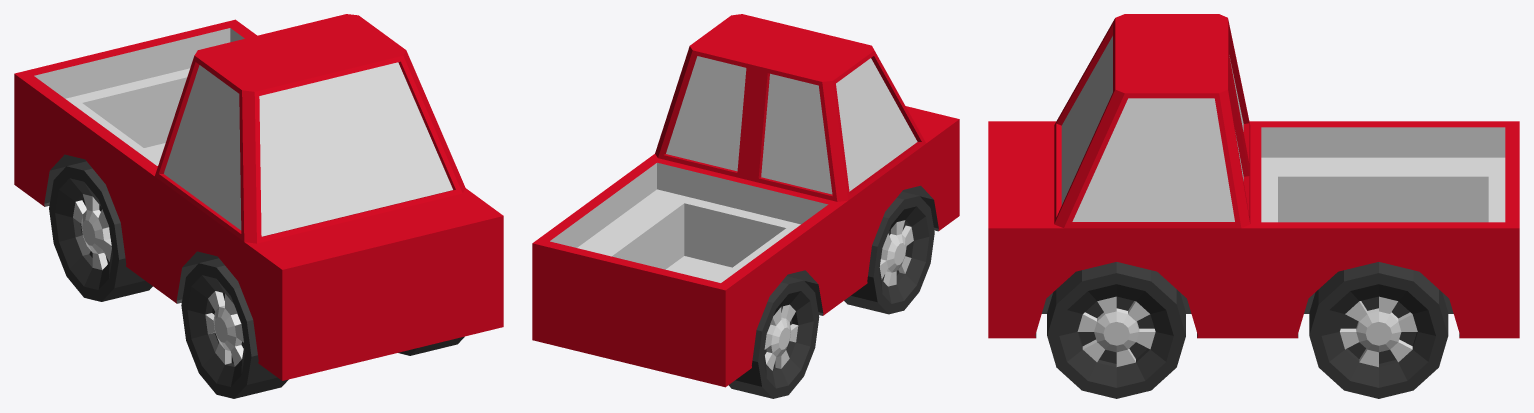
The model's file is little-red-truck.glb.
The picture shows the model from 3 angles, left to right: view 1: azimuth 30°, elevation 25°; view 2: azimuth 150°, elevation 25°; view 3: azimuth 270°, elevation 25°; orthographic projection. The views are drawn at different scales.
Parts seen in each view (by area): view 1: Cube, Cylinder, Cylinder.001; view 2: Cube, Cylinder.001, Cylinder; view 3: Cube, Cylinder.001, Cylinder.
Part boxes in pixels (bbox=[...]): Cube: bbox=[14, 14, 503, 380]; Cylinder: bbox=[181, 258, 464, 398]; Cylinder.001: bbox=[49, 161, 152, 301]; Cube: bbox=[532, 14, 959, 387]; Cylinder.001: bbox=[728, 276, 819, 398]; Cylinder: bbox=[844, 191, 934, 314]; Cube: bbox=[988, 14, 1519, 338]; Cylinder.001: bbox=[1309, 262, 1448, 398]; Cylinder: bbox=[1047, 262, 1185, 398].
Bounding box in the file's own units: 2.02 × 2.54 × 4.2.
